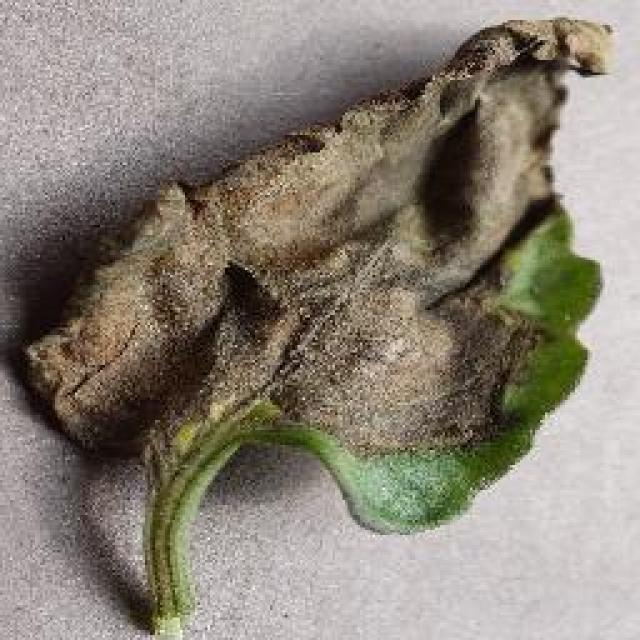Tomato___Late_blight: (20, 18, 615, 638)
